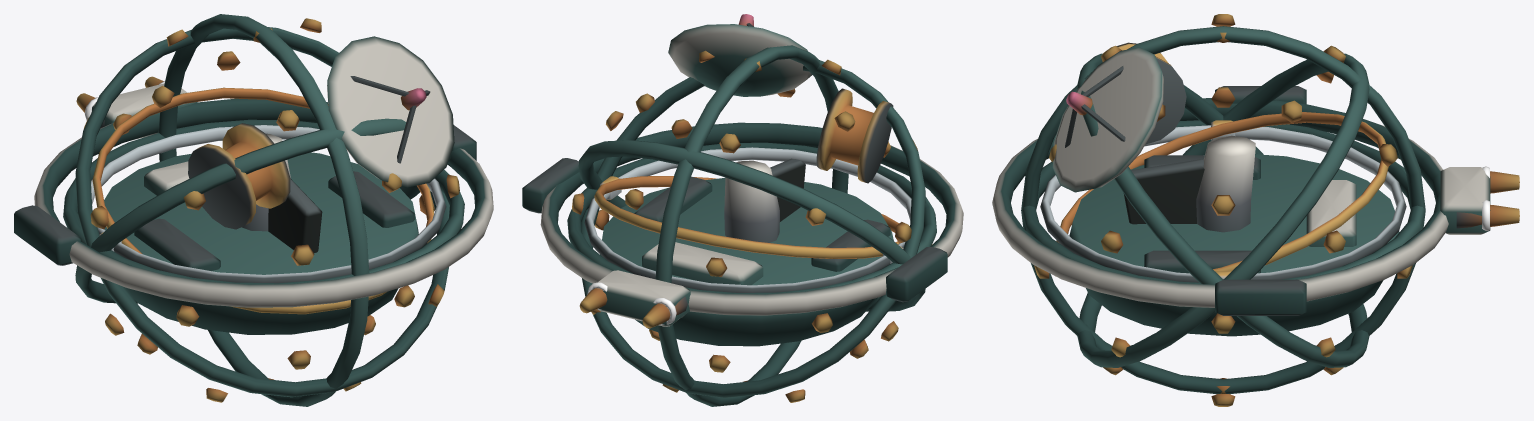
Rendered from shell_patch.glb.
The picture shows the model from 3 angles, left to right: view 1: azimuth 30°, elevation 25°; view 2: azimuth 150°, elevation 25°; view 3: azimuth 270°, elevation 25°; orthographic projection. The views are drawn at different scales.
Parts seen in each view (by area): view 1: Core, Pod, WeaponRing, SpliceDish, Gyro, CableSpool, GyroInner, PilotSeat, Pilot; view 2: Core, WeaponRing, Pod, SpliceDish, Gyro, GyroInner, CableSpool, Pilot, PilotSeat; view 3: Core, WeaponRing, Pod, SpliceDish, Gyro, GyroInner, Pilot, PilotSeat, CableSpool.
Boxes of the visible parts, x1,y1,x2,y2 form: Core: [63, 14, 464, 406]; Pod: [104, 152, 418, 334]; WeaponRing: [14, 76, 493, 307]; SpliceDish: [327, 36, 454, 187]; Gyro: [91, 125, 446, 283]; CableSpool: [188, 123, 290, 229]; GyroInner: [92, 87, 433, 314]; PilotSeat: [268, 178, 322, 252]; Pilot: [242, 133, 290, 231]; Core: [567, 45, 936, 406]; WeaponRing: [522, 122, 963, 328]; Pod: [600, 176, 893, 346]; SpliceDish: [668, 14, 812, 96]; Gyro: [584, 147, 911, 292]; GyroInner: [594, 176, 898, 258]; CableSpool: [816, 88, 893, 183]; Pilot: [724, 160, 779, 242]; PilotSeat: [770, 158, 805, 221]; Core: [1021, 14, 1425, 406]; WeaponRing: [992, 86, 1519, 315]; Pod: [1069, 154, 1399, 336]; SpliceDish: [1052, 47, 1163, 192]; Gyro: [1040, 120, 1406, 282]; GyroInner: [1056, 112, 1388, 271]; Pilot: [1196, 135, 1255, 232]; PilotSeat: [1123, 159, 1204, 224]; CableSpool: [1116, 42, 1186, 144].
Size of the model in its own units: 2.34 by 1.94 by 2.53.
